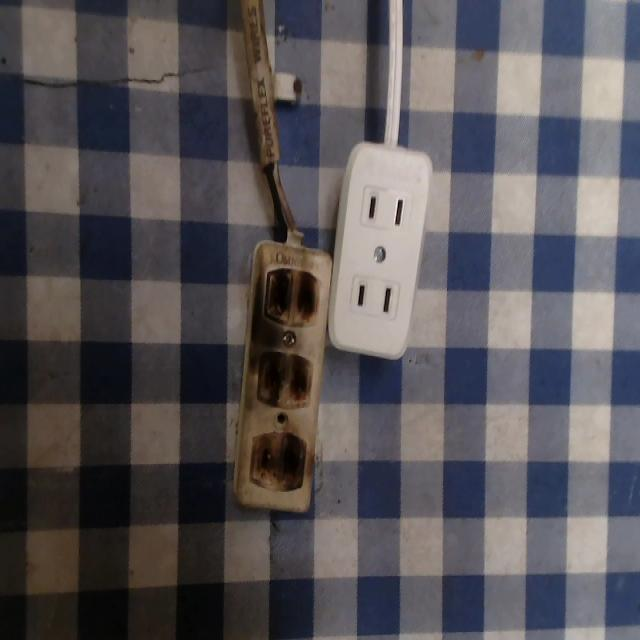-: (243, 427, 309, 493), (262, 265, 331, 327), (254, 346, 315, 411)
